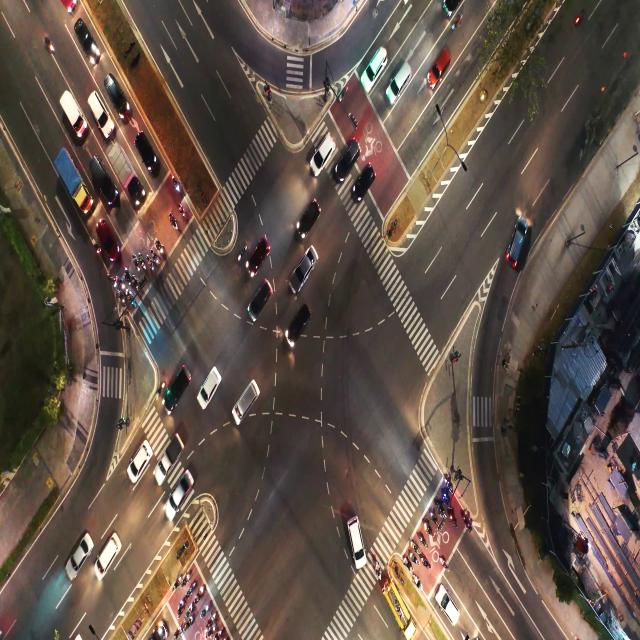bus: (390, 596, 402, 614)
car: (235, 381, 260, 408), (99, 537, 116, 571), (173, 480, 189, 516), (129, 448, 150, 475), (433, 46, 451, 76), (294, 258, 314, 285), (170, 375, 186, 408), (69, 540, 85, 573), (300, 203, 320, 229), (138, 131, 154, 163), (511, 224, 531, 249), (358, 165, 374, 195), (442, 592, 458, 621), (201, 371, 218, 397), (250, 288, 265, 317), (351, 524, 362, 562), (365, 55, 381, 81), (342, 141, 358, 167), (80, 27, 96, 51), (288, 317, 306, 338), (102, 221, 115, 250), (254, 243, 268, 266), (112, 80, 124, 106), (318, 141, 332, 161), (398, 62, 407, 88), (96, 170, 107, 190), (95, 104, 103, 120)
motorcycle: (152, 382, 164, 401), (462, 511, 472, 528), (218, 624, 227, 640), (412, 540, 421, 555), (423, 554, 431, 570), (376, 560, 382, 580), (206, 625, 216, 637), (448, 506, 456, 520), (422, 520, 430, 534), (92, 238, 100, 252), (201, 598, 208, 614), (170, 176, 180, 187), (417, 532, 426, 544), (178, 208, 188, 218), (413, 575, 420, 589), (118, 292, 125, 305), (238, 247, 244, 262), (207, 615, 216, 625), (187, 584, 195, 595), (196, 588, 204, 599), (445, 478, 453, 488), (437, 504, 445, 514), (431, 512, 439, 522), (177, 601, 182, 617), (170, 214, 176, 227), (139, 254, 146, 265), (186, 605, 193, 616), (173, 629, 180, 640), (153, 249, 158, 264), (440, 558, 448, 567), (410, 555, 418, 564), (184, 620, 192, 629), (442, 491, 448, 501), (130, 288, 134, 302), (134, 276, 138, 290), (111, 276, 116, 287), (176, 577, 182, 586), (158, 241, 162, 254), (134, 253, 138, 266), (147, 257, 151, 269), (126, 267, 130, 279), (120, 279, 126, 287), (184, 572, 188, 584), (406, 559, 411, 567)
truck: (60, 162, 82, 197), (158, 439, 178, 472), (64, 98, 79, 125), (116, 153, 127, 180)
